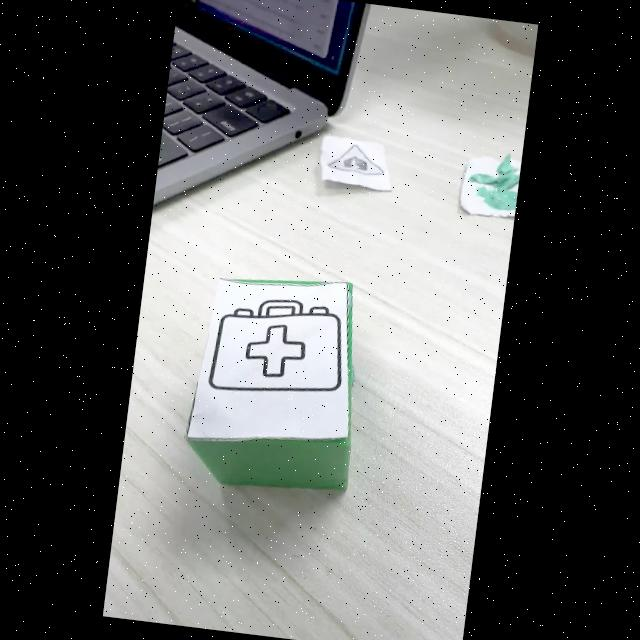Medkit: (208, 299, 342, 392)
